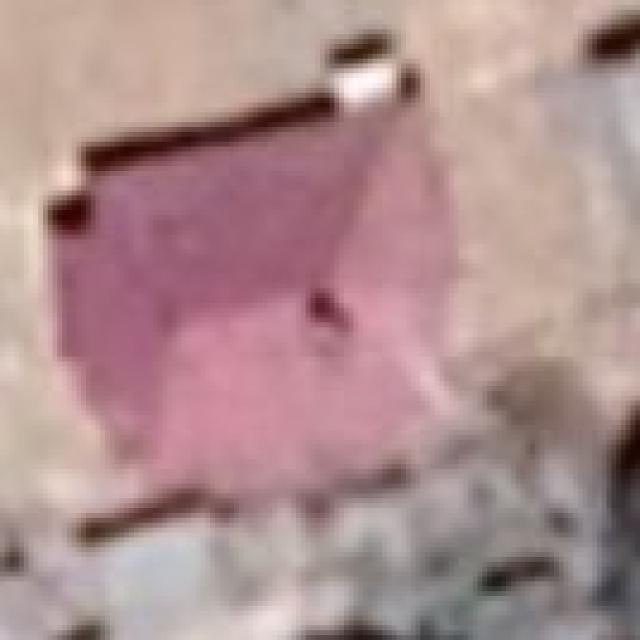Batiment: (60, 98, 454, 501)
